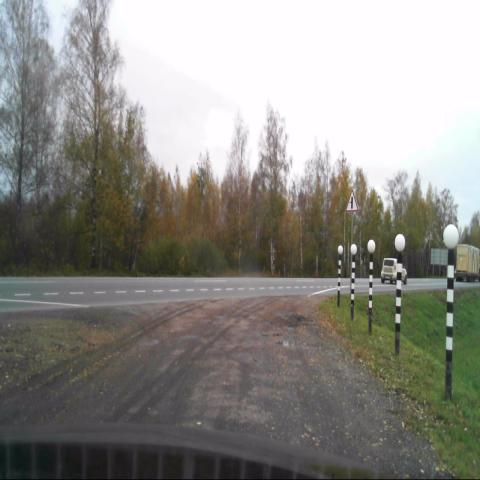2_3_3: (346, 191, 359, 212)
